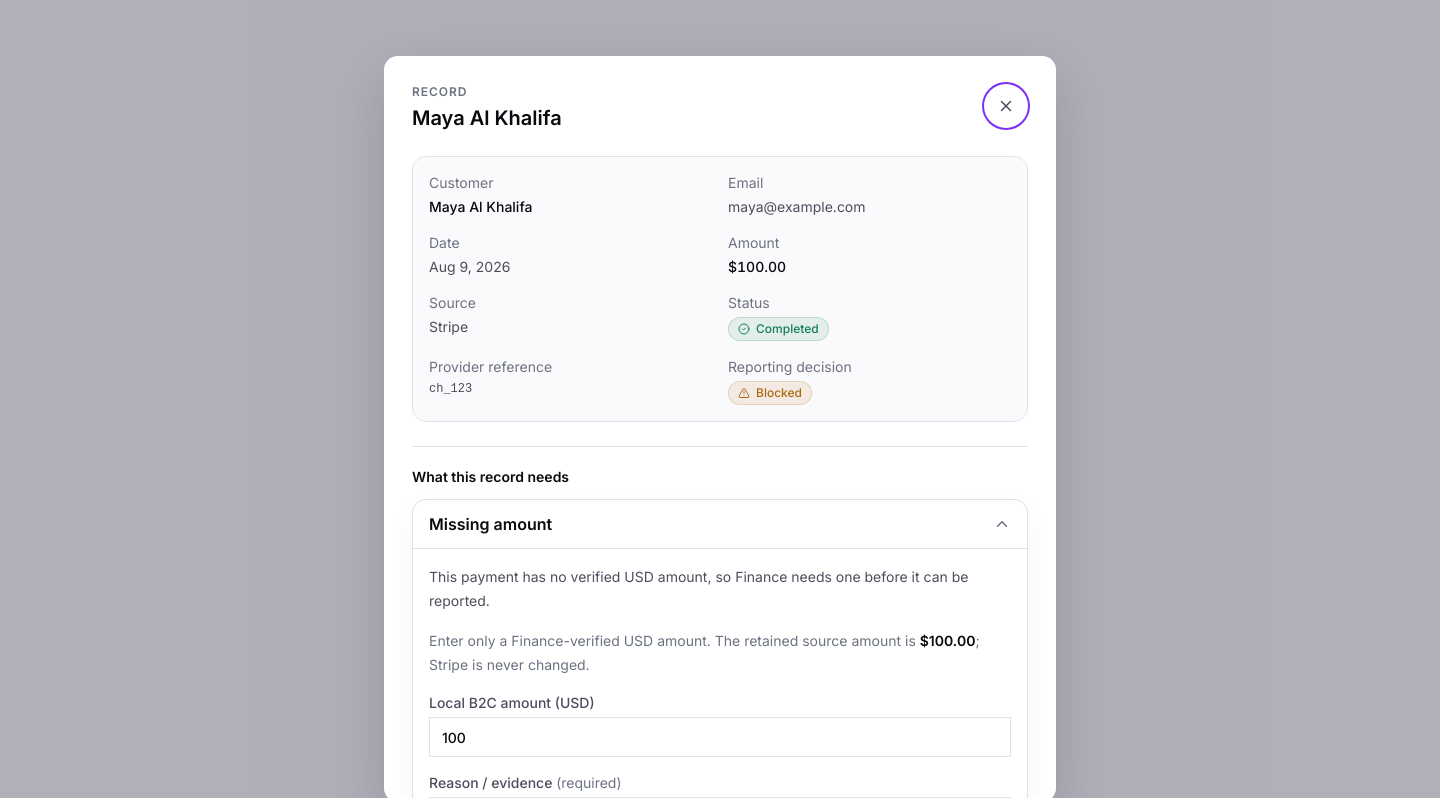
Scenario: B2C payment review drawer › preserves the draft and shows an error when a save fails, without closing the drawer
Replace the text in the number field labelled "Local B2C amount (USD)" with "125.50": [720, 737] box [429,717,1011,757]
(page scrolled)
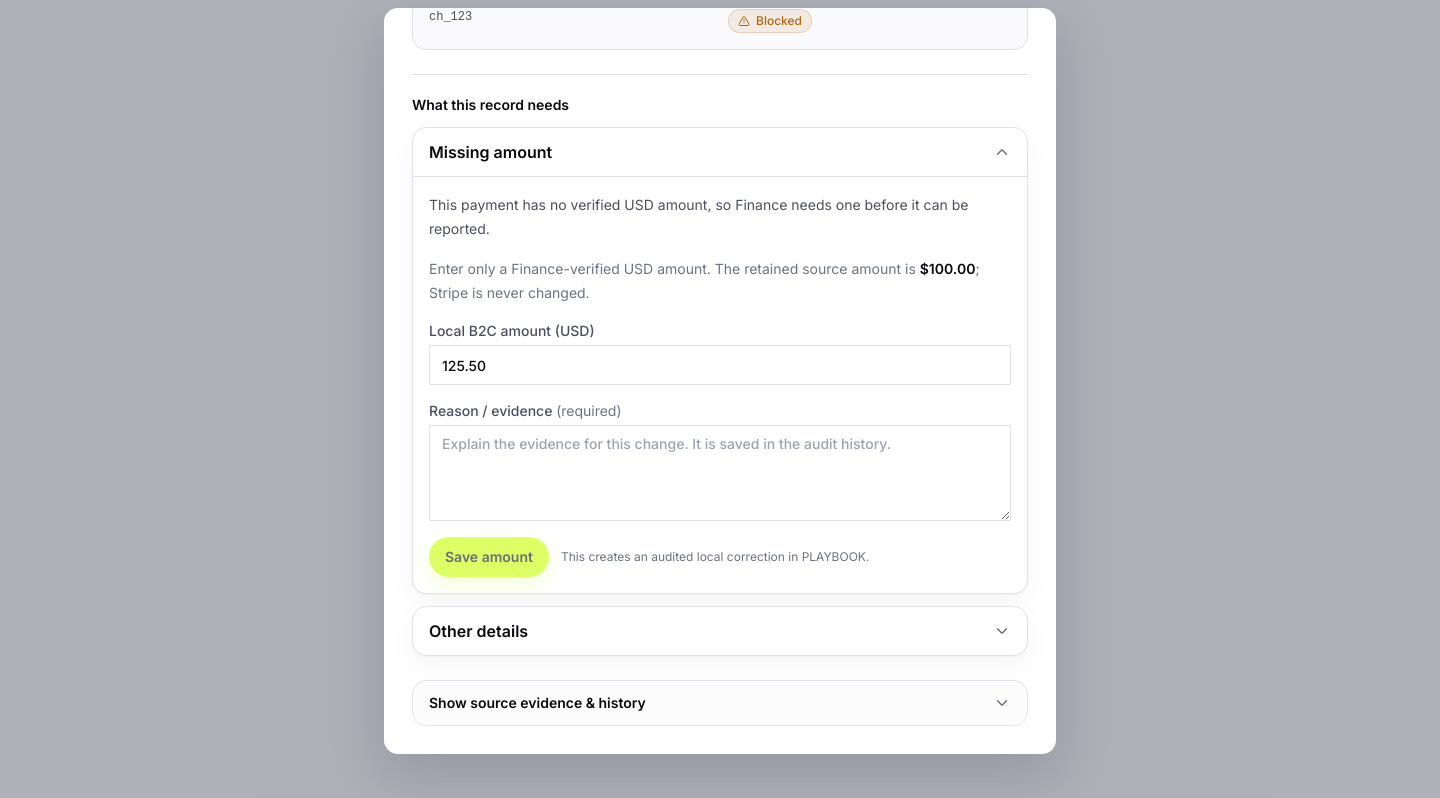
Replace the text in the text box labelled "Reason / evidence (required)" with "Verified against Finance evidence.": [720, 473] box [429,425,1011,521]
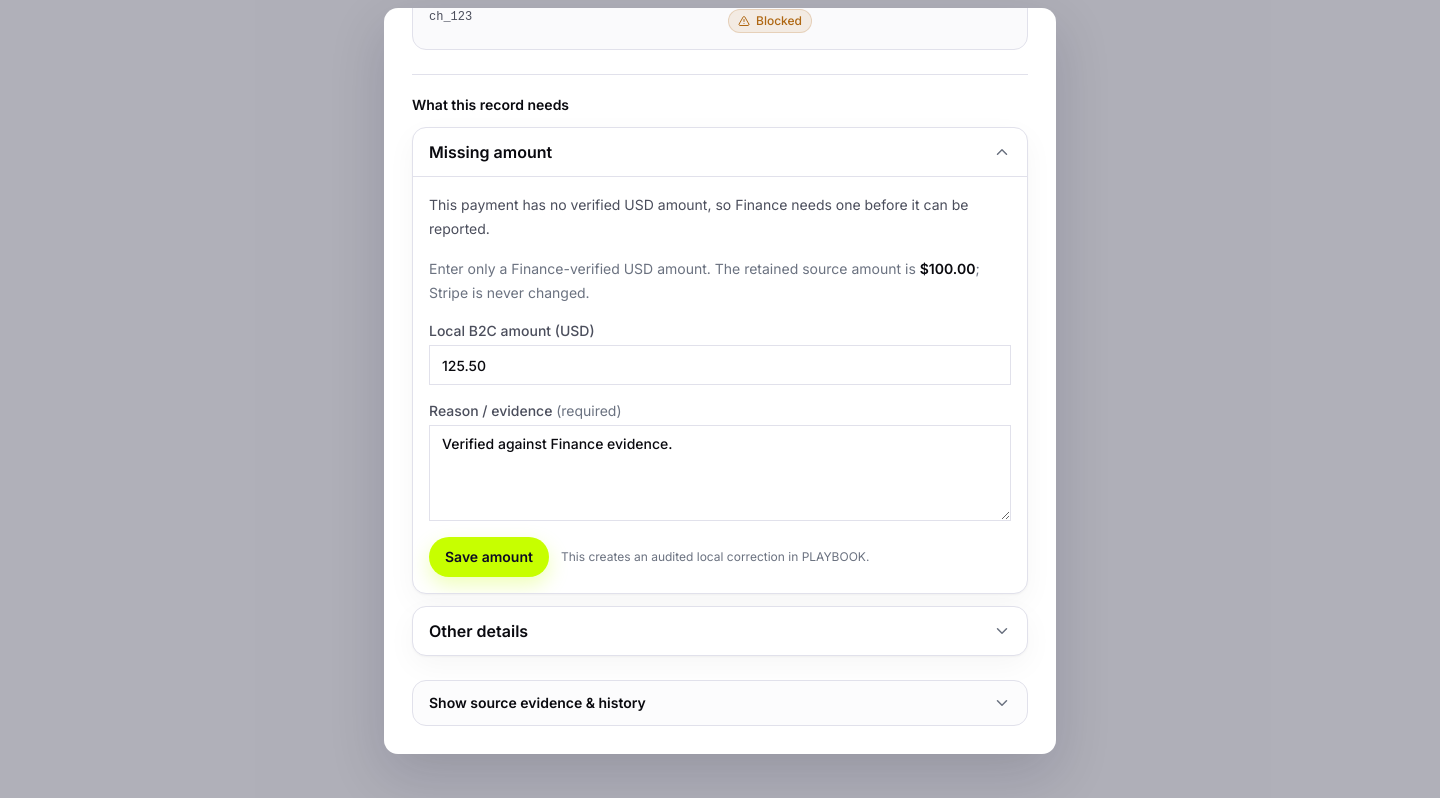
Click the button "Save amount": [489, 557] box [429,537,549,577]
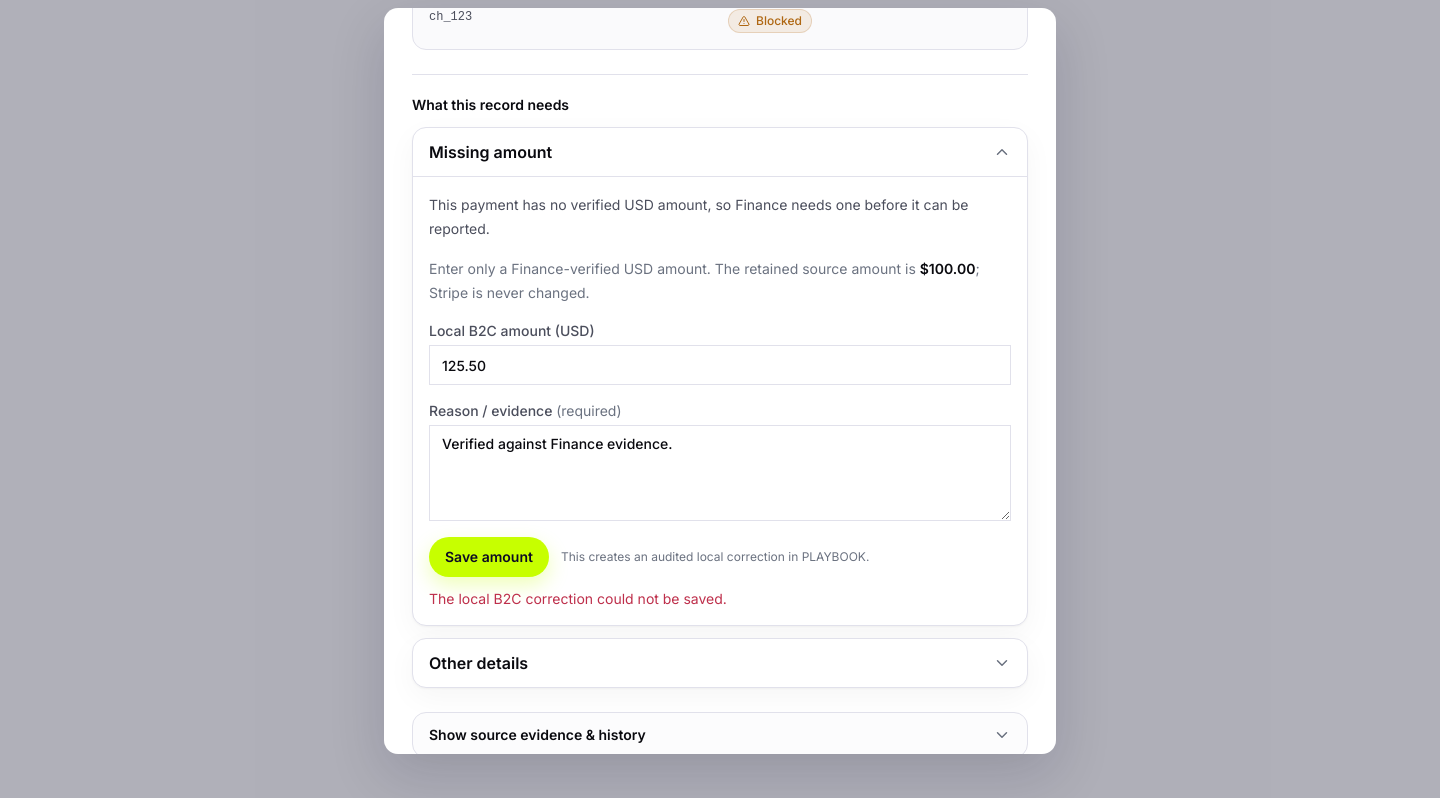
Expected: the text "The local B2C correction could not be saved." is shown, [429,590,727,607]
